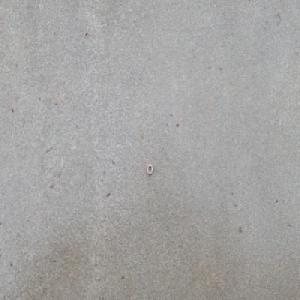Nut: (147, 163, 153, 175)
